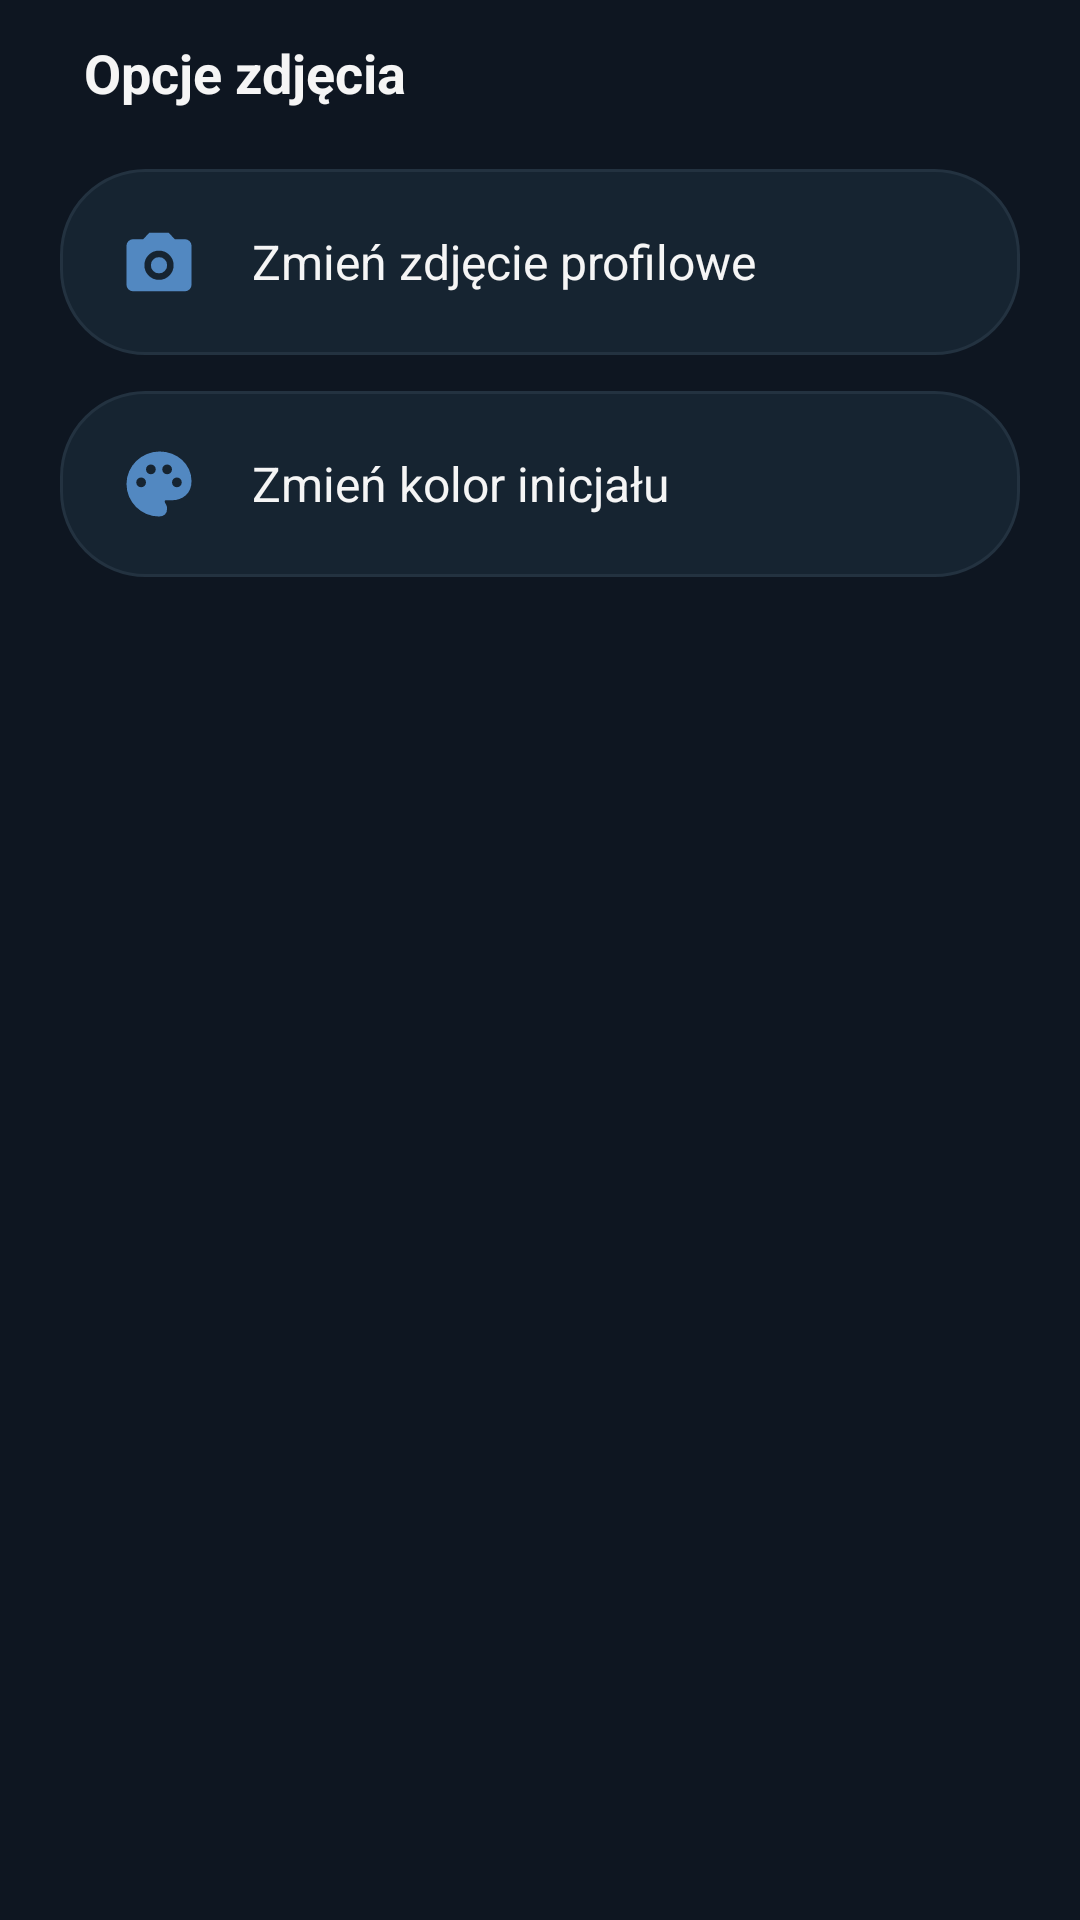

Icons on this 1080*1920 Android screen, each with the point to tap as (x=x, y=y):
camera: (x=159, y=262)
palette: (x=159, y=484)
